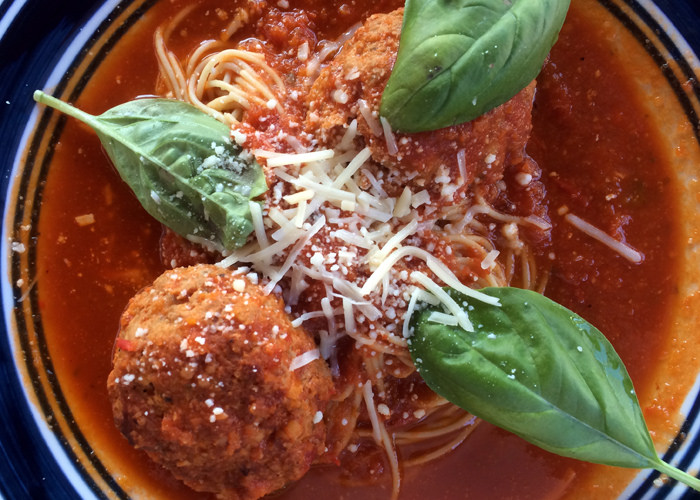meatballs: (104, 270, 347, 493), (333, 7, 548, 170)
plain spaghetti: (359, 357, 458, 454), (188, 45, 282, 126)
